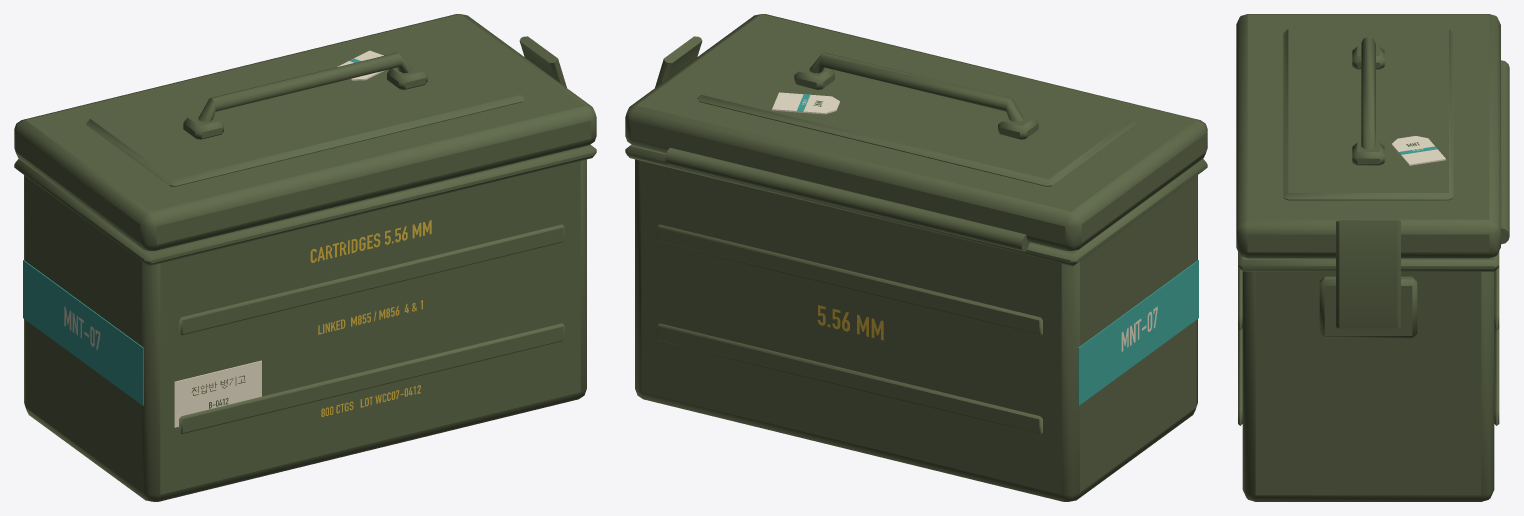
File: us_ammo_can.glb
3 views of the same model, side by side, from view 1: azimuth 30°, elevation 25°; view 2: azimuth 150°, elevation 25°; view 3: azimuth 270°, elevation 25° (orthographic). The views are drawn at different scales.
Visible parts, largest first — view 1: body, lid, body_fine, handle, latch; view 2: body, lid, body_fine, handle, latch; view 3: lid, body, latch, handle.
Boxes of the visible parts, bbox=[...] form: body: bbox=[14, 144, 596, 501]; lid: bbox=[14, 14, 596, 251]; body_fine: bbox=[23, 220, 431, 427]; handle: bbox=[198, 52, 412, 121]; latch: bbox=[519, 36, 566, 87]; body: bbox=[625, 144, 1207, 501]; lid: bbox=[625, 14, 1207, 251]; body_fine: bbox=[817, 260, 1198, 405]; handle: bbox=[809, 52, 1023, 121]; latch: bbox=[655, 36, 702, 87]; lid: bbox=[1236, 14, 1500, 258]; body: bbox=[1238, 60, 1509, 501]; latch: bbox=[1336, 220, 1400, 328]; handle: bbox=[1361, 37, 1375, 149].
Bounding box in the file's own units: 0.326 × 0.2185 × 0.1685.
